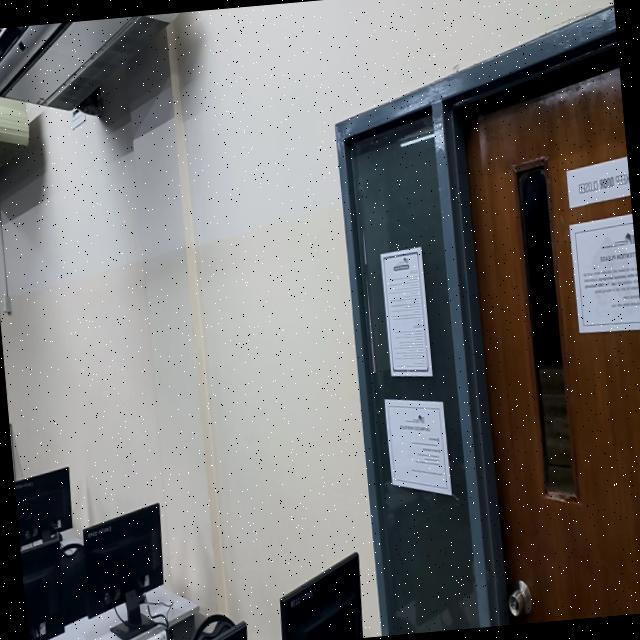Ac: (0, 11, 178, 108), (0, 96, 28, 166)
Chair: (59, 539, 88, 622), (191, 612, 233, 640)
Monitor: (82, 503, 162, 616), (279, 551, 361, 640), (13, 466, 71, 546), (19, 537, 63, 640), (207, 620, 246, 640)
